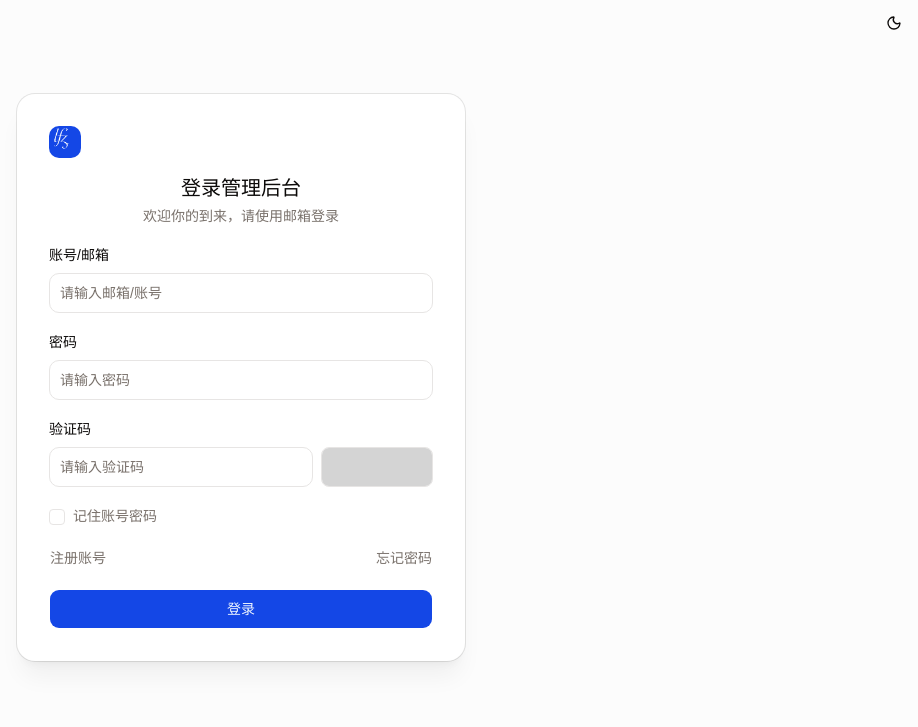
Test: LoginFeature › shows validation messages for empty fields
This screenshot has width=918, height=727.
Expected: the text "登录管理后台" is shown, [181, 176, 301, 198]
Expected: the text "欢迎你的到来，请使用邮箱登录" is shown, [143, 208, 339, 224]
Click the button "登录". click: x=241, y=608
box: [49, 588, 433, 628]
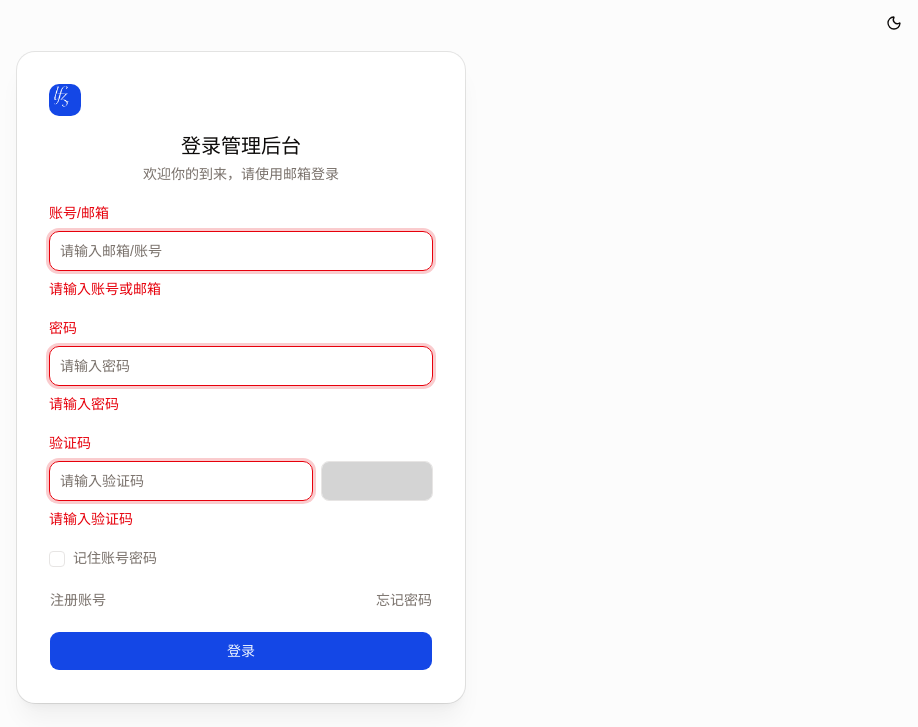
Now the number of messages is 3, box [49, 281, 161, 297]; [49, 396, 119, 412]; [49, 511, 133, 527]
